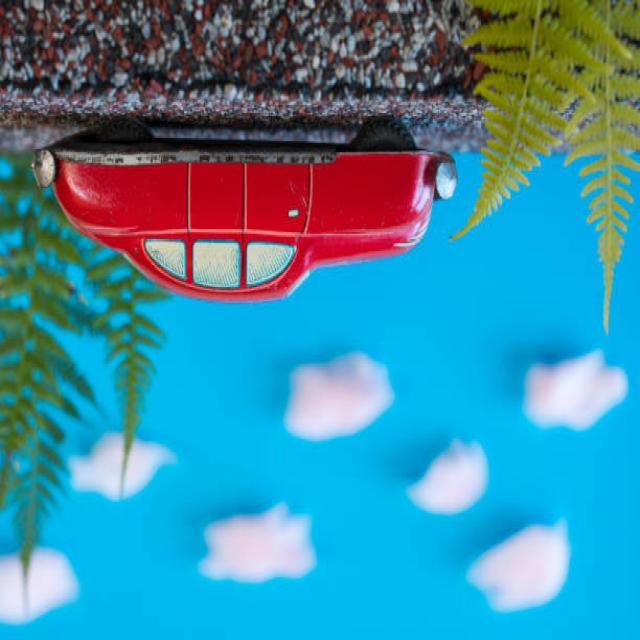Car: (30, 121, 457, 306)
